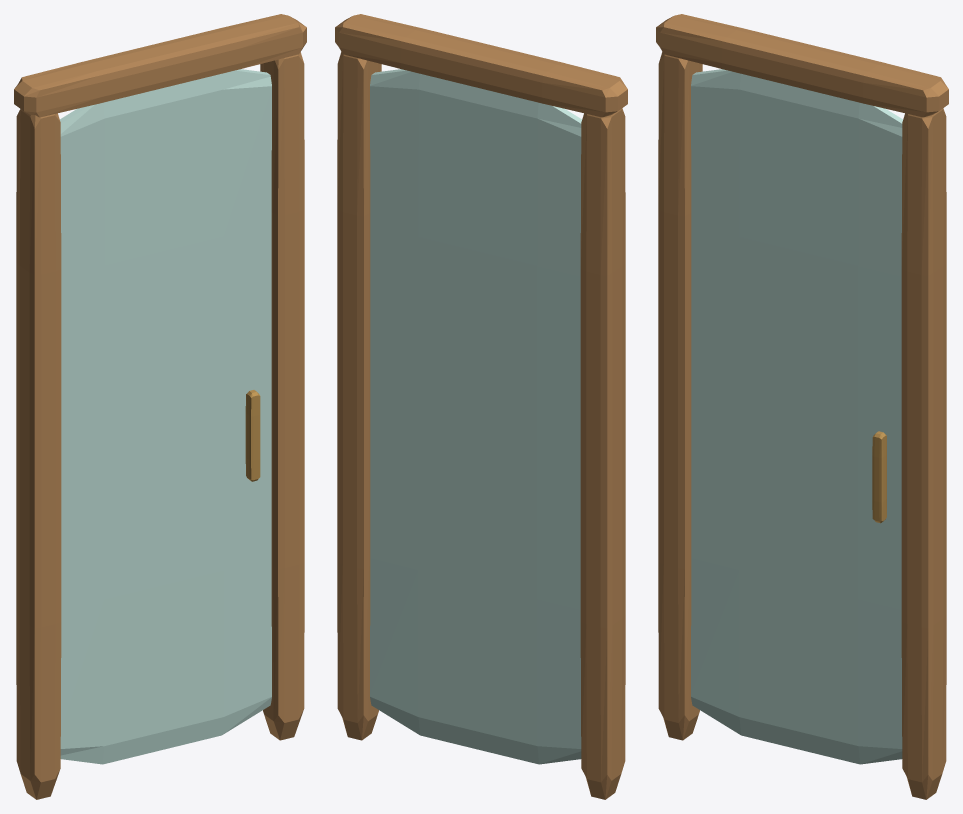
The model's file is best.glb.
3 views of the same model, side by side, from view 1: azimuth 30°, elevation 25°; view 2: azimuth 150°, elevation 25°; view 3: azimuth 330°, elevation 25° (orthographic).
Parts seen in each view (by area): view 1: Native component 3, Native component 0, Native component 4; view 2: Native component 3, Native component 0; view 3: Native component 3, Native component 0, Native component 4.
Part boxes in pixels (box(x1,y1,x2,y2)): Native component 3: box(59, 69, 271, 764); Native component 0: box(14, 14, 306, 799); Native component 4: box(245, 390, 260, 481); Native component 3: box(370, 69, 582, 764); Native component 0: box(335, 14, 627, 799); Native component 3: box(691, 69, 903, 764); Native component 0: box(656, 14, 948, 799); Native component 4: box(872, 431, 886, 523).
Bounding box in the file's own units: 1 × 2.41 × 0.1245.
